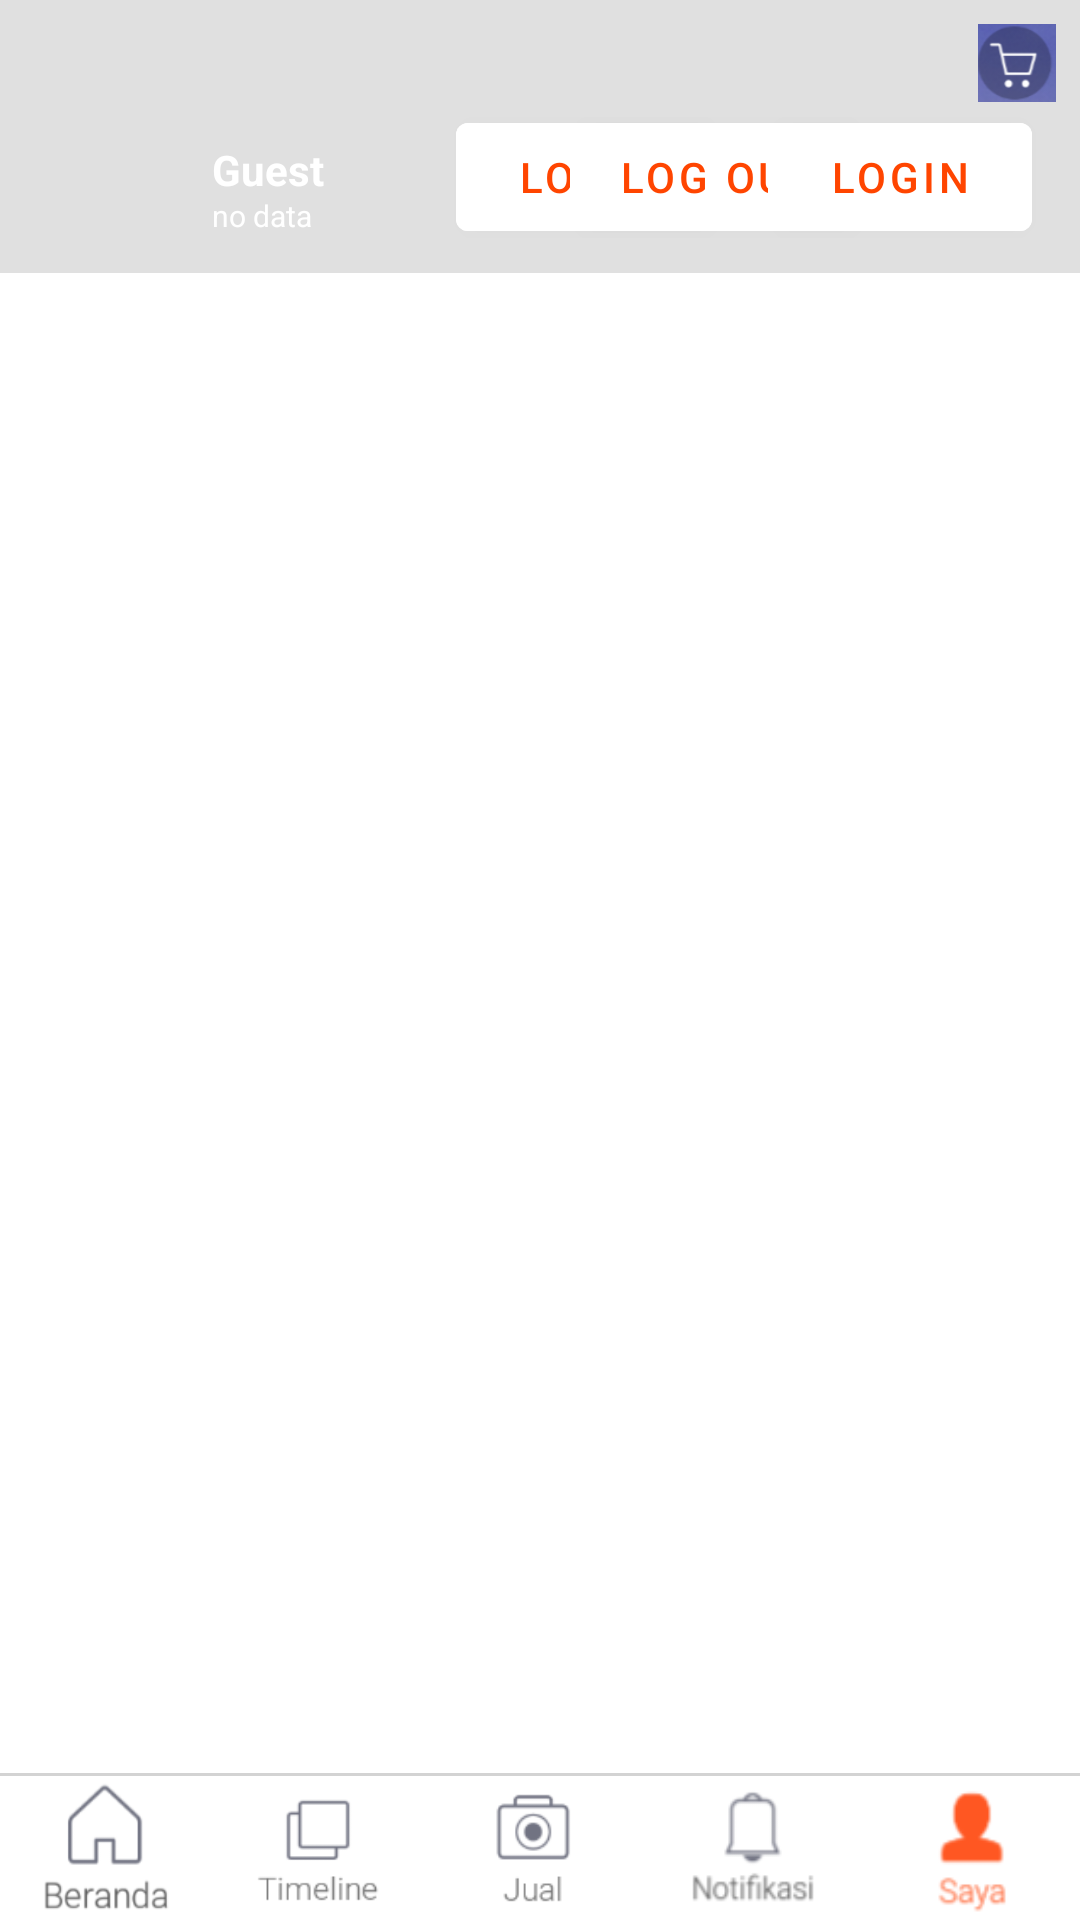

Locate icon controls on the screen. Image size 1080 x 1920, boxes as box(x1, y1, x2, y2).
cartprofile: box(978, 24, 1056, 102)
maincamera: box(496, 1795, 570, 1901)
